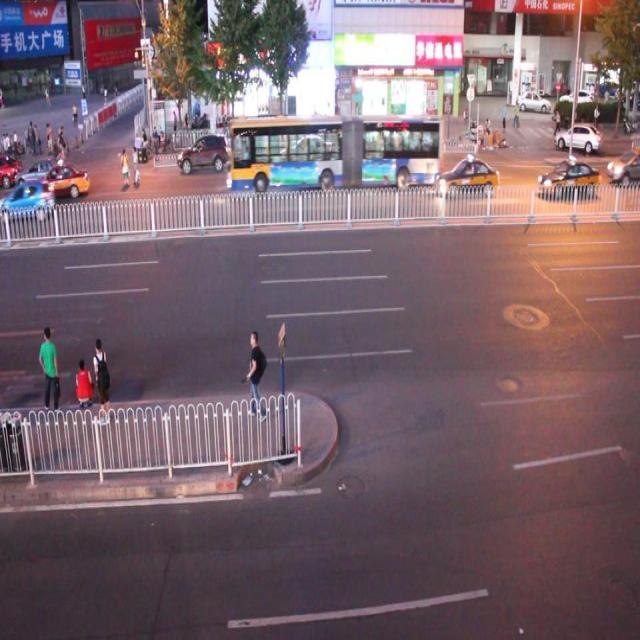car: (437, 158, 498, 199), (538, 160, 599, 198), (0, 181, 54, 220), (177, 134, 230, 172), (34, 166, 89, 199), (281, 135, 330, 170), (15, 156, 63, 190), (554, 123, 600, 154), (606, 147, 640, 187), (1, 154, 22, 186)
van: (228, 118, 442, 191)
